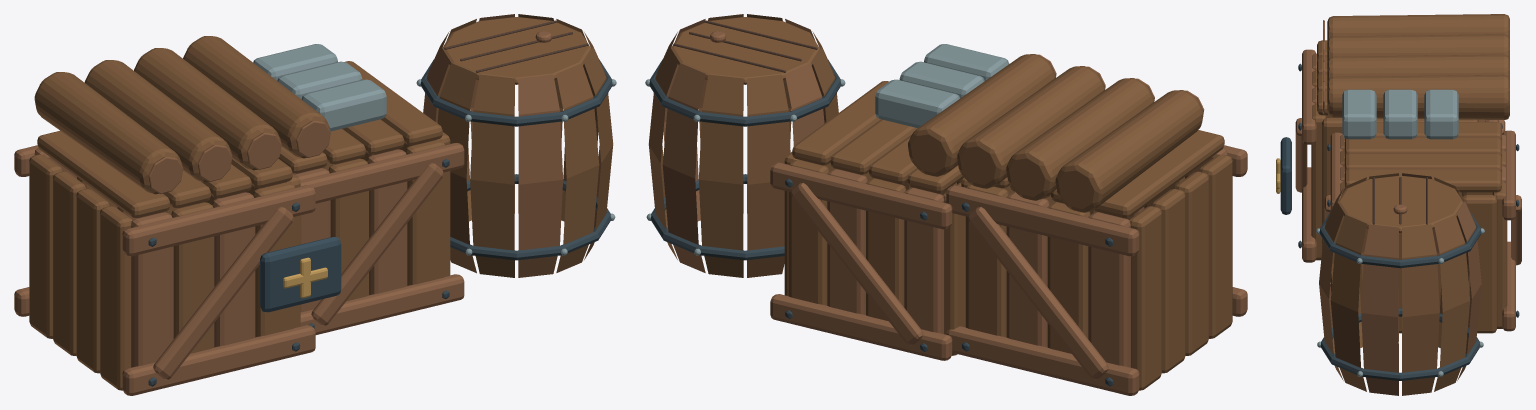
The model's file is stockpile.glb.
3 renders of one model, left to right at view 1: azimuth 30°, elevation 25°; view 2: azimuth 150°, elevation 25°; view 3: azimuth 270°, elevation 25°, orthographic. The views are drawn at different scales.
Visible parts, largest first — view 1: CrateSidePlank.027, OakStave.031, StoredLog.005, CrateFacePlank.027, CrateFacePlank.036, CrateSidePlank.036, OakStave.030, StockIngot.004, IronHoop.007, SharedInventoryPlate.002, LogCutEnd.005, LidSeam.009 (+1 smaller); view 2: CrateSidePlank.027, StoredLog.005, OakStave.031, CrateFacePlank.027, CrateFacePlank.036, CrateSidePlank.036, OakStave.030, StockIngot.004, IronHoop.007, LidSeam.009; view 3: OakStave.031, StoredLog.005, CrateSidePlank.036, OakStave.030, StockIngot.004, CrateFacePlank.036, IronHoop.007, CrateSidePlank.027, CrateFacePlank.027, SharedInventoryPlate.002, LidSeam.009, HoopRivet.027.
Part boxes in pixels (x1,y1,x2,y2): CrateSidePlank.027: [29, 130, 300, 390]; OakStave.031: [423, 14, 613, 277]; StoredLog.005: [34, 36, 329, 194]; CrateFacePlank.027: [14, 145, 315, 395]; CrateFacePlank.036: [292, 143, 464, 334]; CrateSidePlank.036: [278, 61, 450, 301]; OakStave.030: [423, 14, 613, 277]; StockIngot.004: [253, 44, 386, 131]; IronHoop.007: [420, 59, 612, 260]; SharedInventoryPlate.002: [260, 237, 341, 312]; LogCutEnd.005: [148, 121, 330, 193]; LidSeam.009: [444, 20, 588, 72]; CrateSidePlank.027: [961, 130, 1232, 390]; StoredLog.005: [908, 54, 1203, 212]; OakStave.031: [648, 14, 838, 277]; CrateFacePlank.027: [946, 145, 1247, 395]; CrateFacePlank.036: [770, 162, 956, 360]; CrateSidePlank.036: [784, 81, 965, 355]; OakStave.030: [662, 19, 826, 272]; StockIngot.004: [875, 44, 1009, 128]; IronHoop.007: [649, 59, 841, 260]; LidSeam.009: [673, 20, 817, 72]; OakStave.031: [1319, 173, 1481, 395]; StoredLog.005: [1327, 14, 1509, 119]; CrateSidePlank.036: [1340, 122, 1507, 333]; OakStave.030: [1319, 173, 1481, 395]; StockIngot.004: [1342, 89, 1458, 139]; CrateFacePlank.036: [1324, 130, 1521, 331]; IronHoop.007: [1319, 211, 1481, 380]; CrateSidePlank.027: [1311, 40, 1486, 260]; CrateFacePlank.027: [1295, 49, 1505, 262]; SharedInventoryPlate.002: [1280, 137, 1291, 214]; LidSeam.009: [1372, 177, 1427, 224]; HoopRivet.027: [1316, 228, 1484, 376].
Size of the model in its own units: 2.26 by 0.9417 by 1.08.
